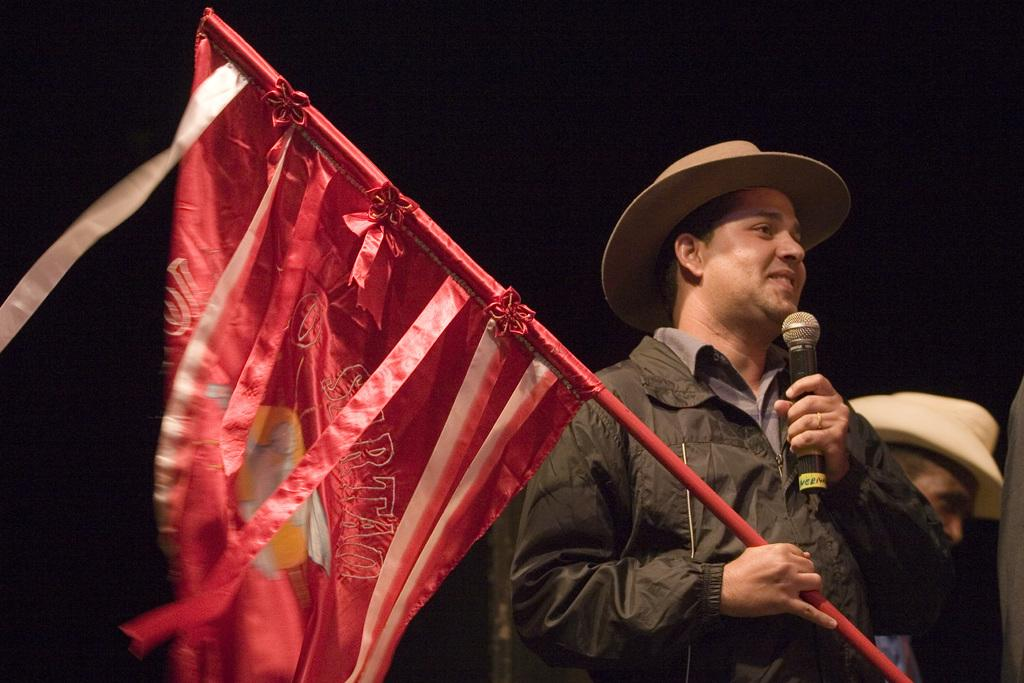Hat: (600, 137, 854, 337), (846, 390, 1006, 488)
